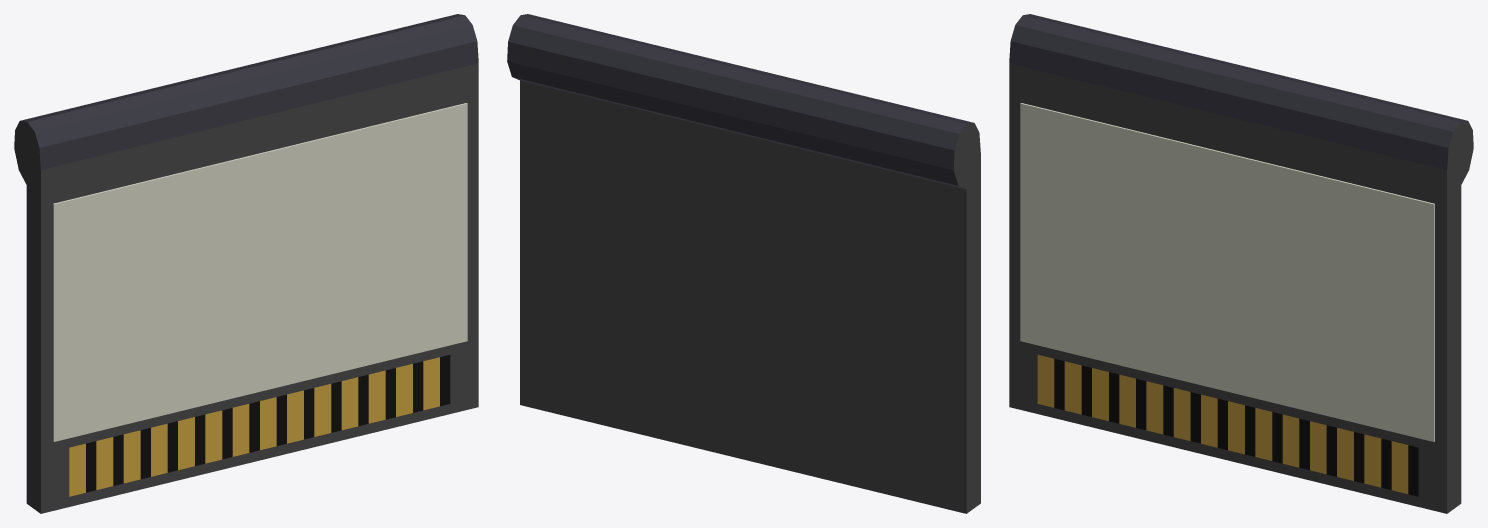
Rendered from lynx.obj.
The picture shows the model from 3 angles, left to right: view 1: azimuth 30°, elevation 25°; view 2: azimuth 150°, elevation 25°; view 3: azimuth 330°, elevation 25°; orthographic projection.
Visible parts, largest first — view 1: lynx; view 2: lynx; view 3: lynx.
Boxes of the visible parts, x1,y1,x2,y2 form: lynx: (14, 14, 478, 513); lynx: (507, 14, 980, 513); lynx: (1009, 14, 1473, 513).
Bounding box in the file's own units: 5.4 × 4.5 × 0.59.
